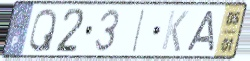2: (53, 6, 86, 55)
3: (94, 7, 121, 54)
A: (184, 9, 216, 53)
I: (130, 6, 148, 54)
K: (159, 8, 191, 54)
Q: (27, 7, 59, 55)
